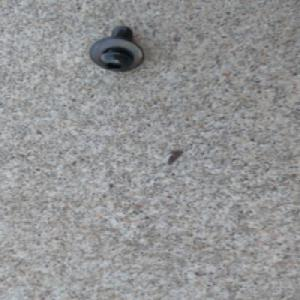BoltWasher: (87, 23, 148, 71)
